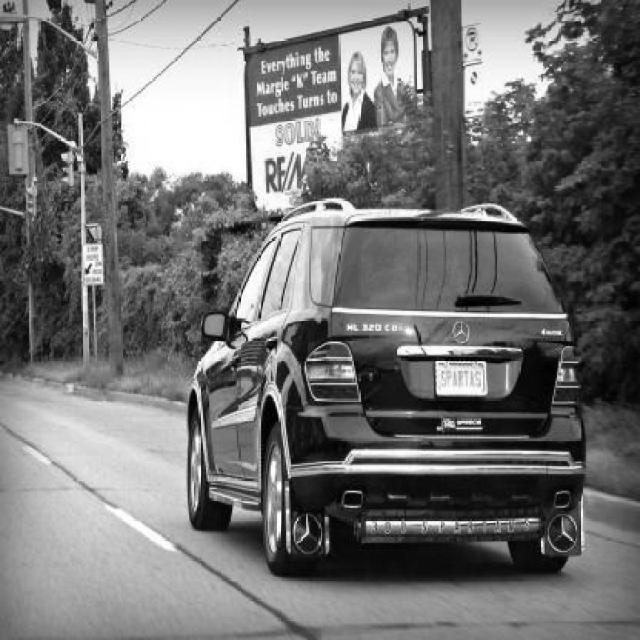car: (175, 200, 596, 568)
license-plate: (430, 354, 492, 395)
